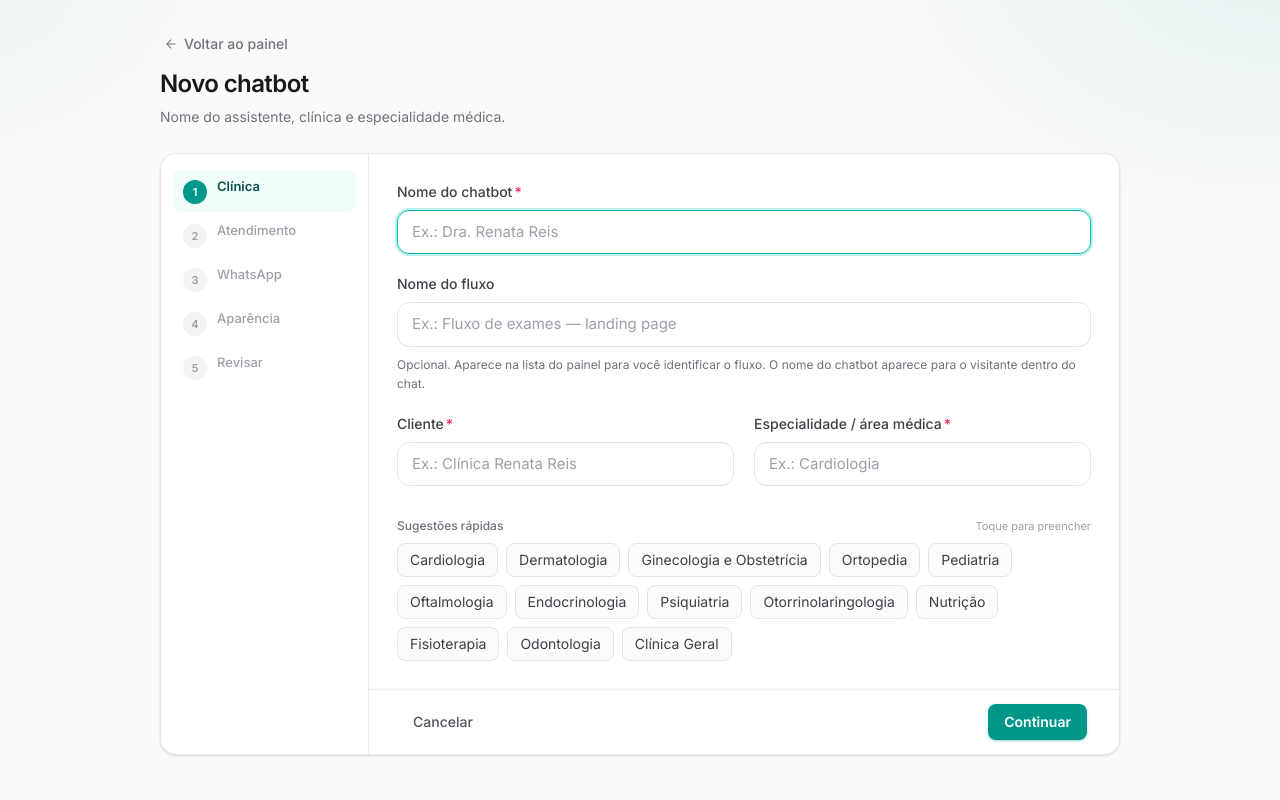
Test: ChatbotForm (wizard) › selects a specialty suggestion and marks it pressed
Click the button "Cardiologia": x=448, y=560 [397,543,498,577]
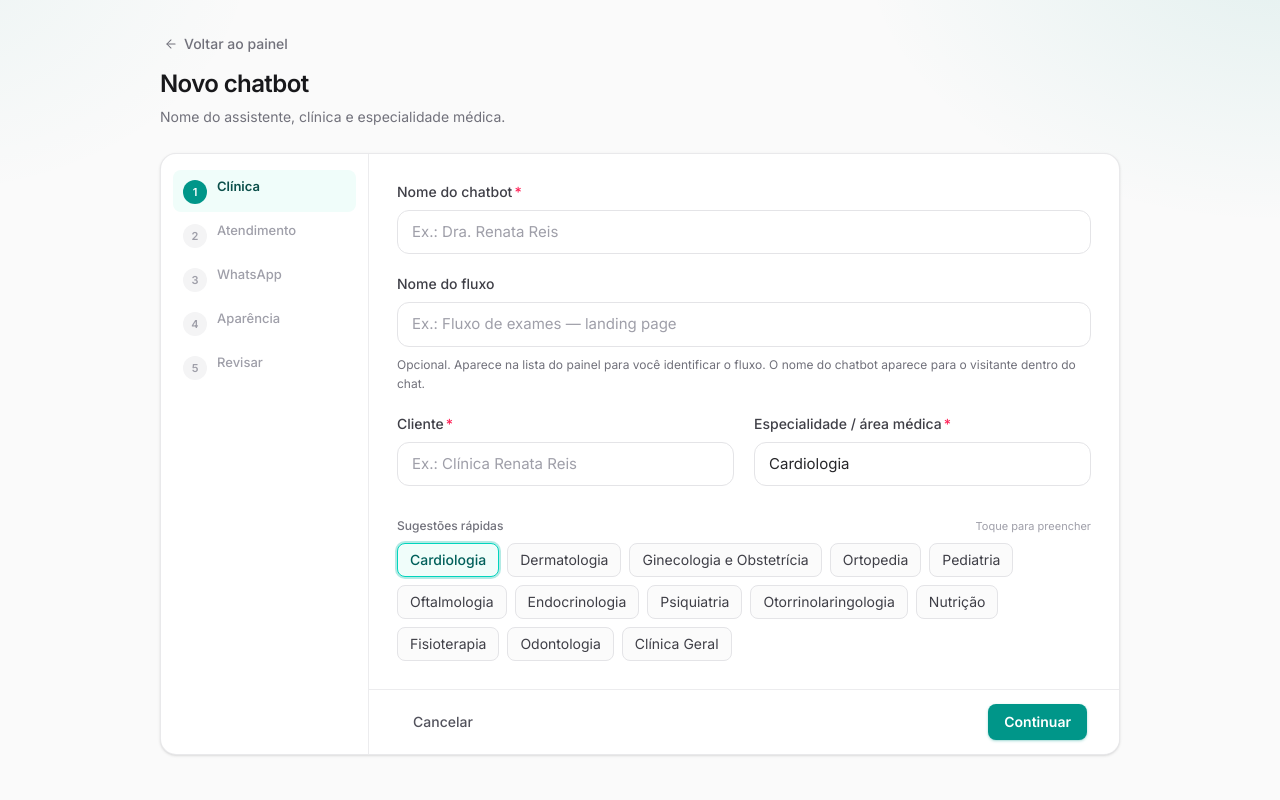
Result: the field labelled "Especialidade / área médica*" holds "Cardiologia" at [754,442,1091,486]
